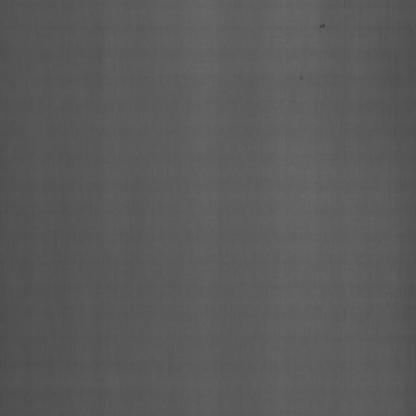inclusion: (289, 64, 310, 84), (314, 8, 330, 32)
